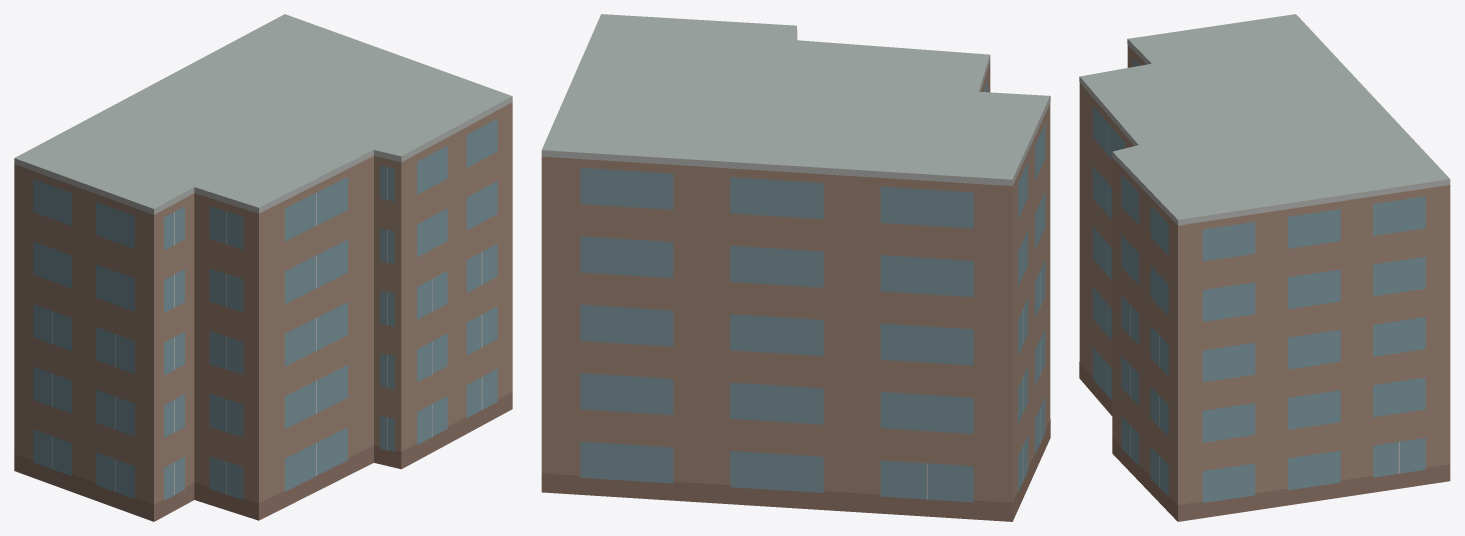
File: survey-upis-33027427.glb
3 renders of one model, left to right at view 1: azimuth 30°, elevation 25°; view 2: azimuth 150°, elevation 25°; view 3: azimuth 270°, elevation 25°, orthographic. The views are drawn at different scales.
Visible parts, largest first — view 1: survey-upis-33027427.tmp; view 2: survey-upis-33027427.tmp; view 3: survey-upis-33027427.tmp.
Part boxes in pixels (x1,y1,x2,y2): survey-upis-33027427.tmp: (14, 14, 512, 521); survey-upis-33027427.tmp: (541, 14, 1050, 521); survey-upis-33027427.tmp: (1079, 14, 1450, 521).
Bounding box in the file's own units: 18.88 × 12.9 × 14.37.
